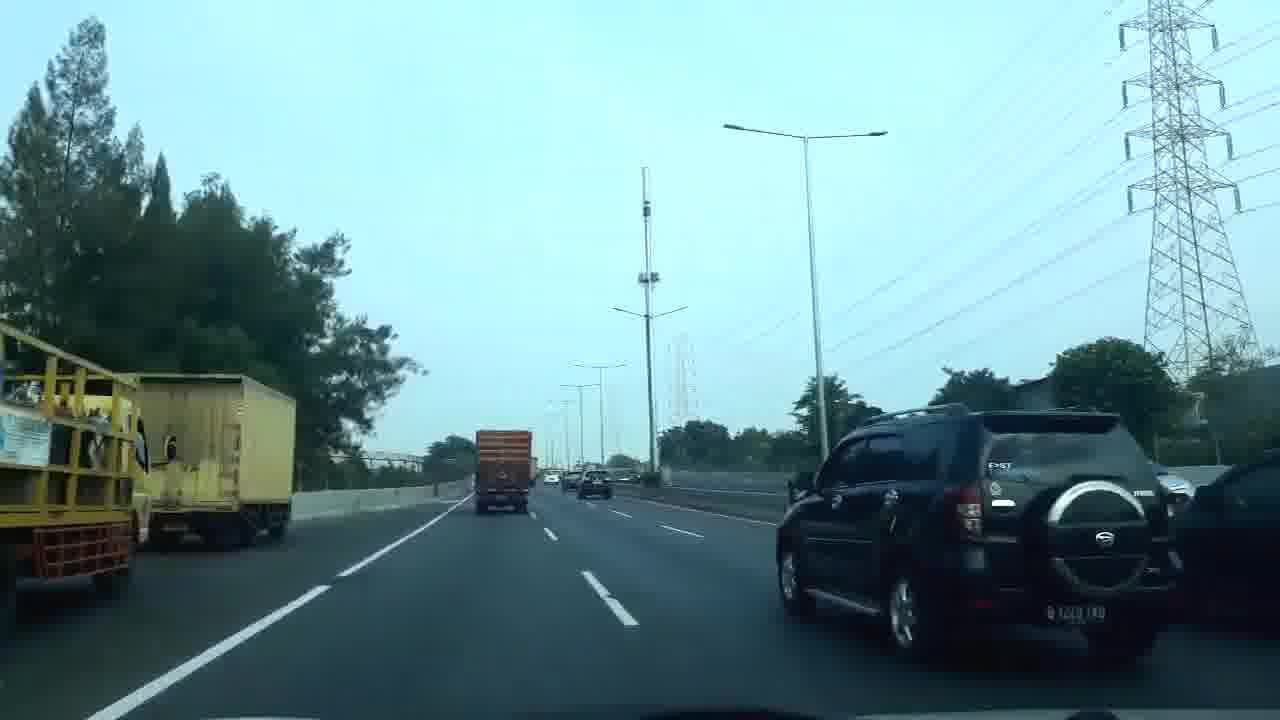plate_positive: (1045, 602, 1106, 626)
